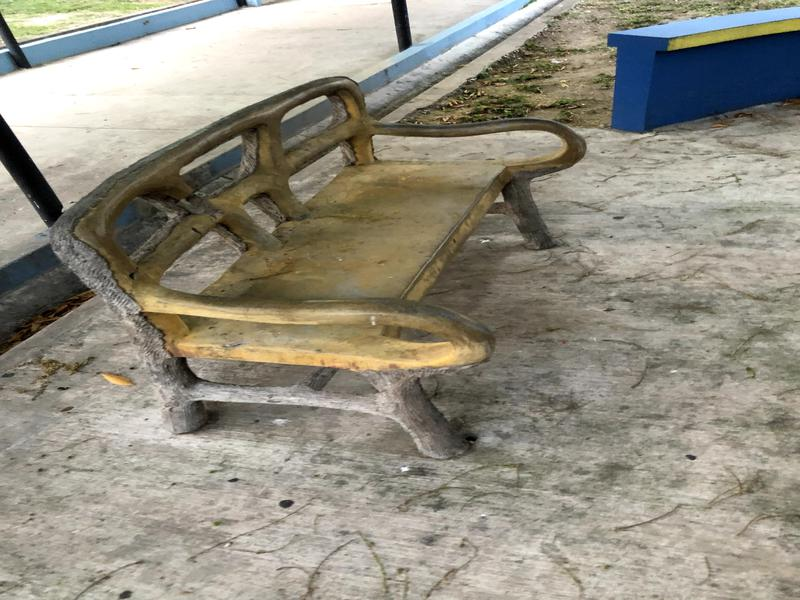18.0050864_-76.7496363_bench: (23, 22, 597, 501)
